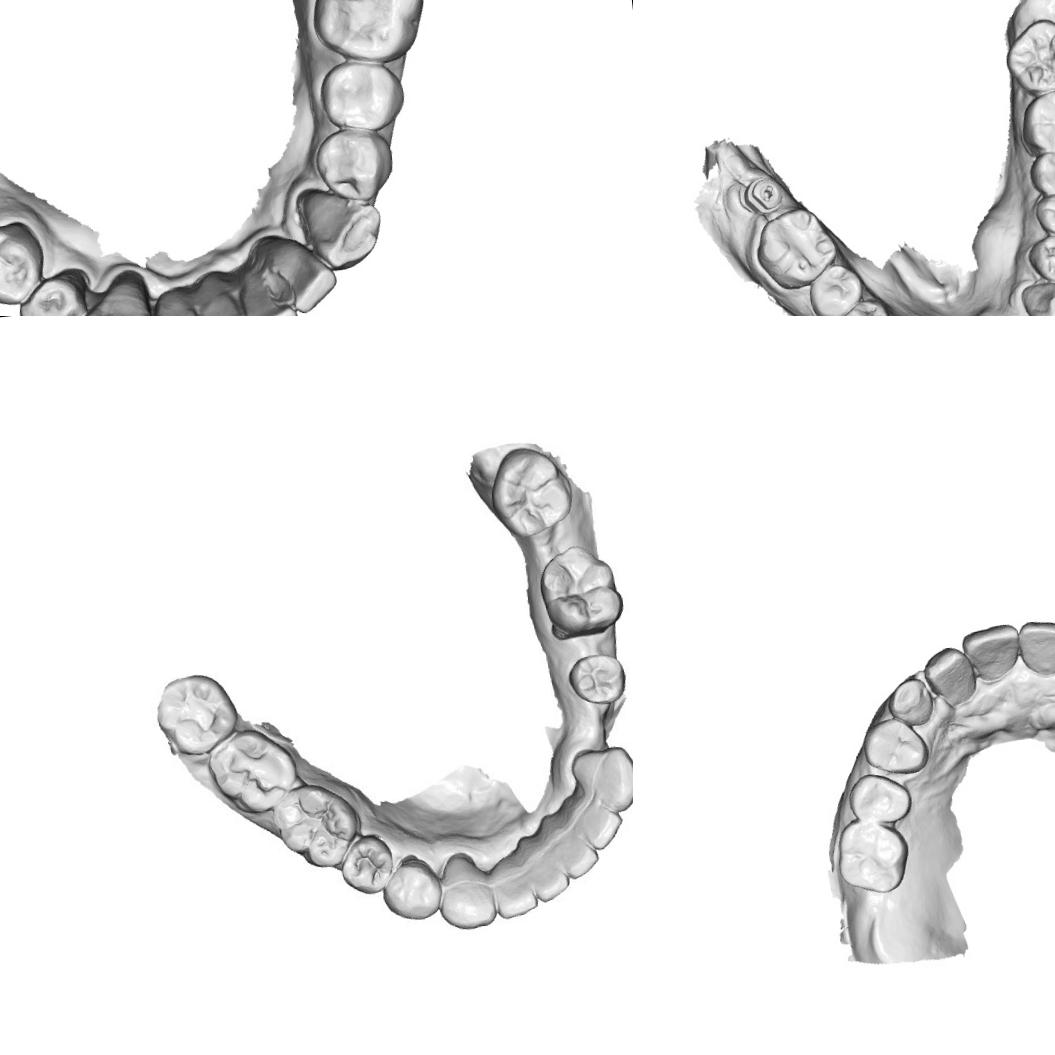canine: (299, 182, 384, 274), (433, 847, 499, 934), (567, 743, 633, 817), (73, 270, 163, 316), (882, 673, 936, 730), (1018, 279, 1055, 316)
implant_minus: (740, 170, 786, 218)
incisor: (269, 238, 340, 316), (958, 621, 1024, 686), (920, 642, 980, 711), (488, 860, 538, 920), (1015, 615, 1055, 679), (242, 272, 300, 316), (578, 806, 624, 853), (558, 836, 602, 881), (533, 860, 572, 906), (197, 289, 256, 316), (148, 294, 211, 316)
molar: (202, 720, 304, 820), (266, 776, 366, 876), (483, 442, 578, 544), (537, 540, 630, 640), (303, 0, 431, 68), (150, 669, 243, 761), (751, 203, 842, 294), (831, 813, 914, 899), (1000, 14, 1055, 99), (1016, 86, 1055, 158), (1027, 148, 1055, 199)
premolar: (314, 55, 410, 136), (312, 125, 398, 207), (858, 713, 932, 779), (0, 219, 50, 310), (376, 857, 442, 925), (844, 769, 916, 828), (336, 829, 396, 899), (563, 649, 630, 710), (14, 273, 94, 316), (805, 261, 867, 316), (1023, 229, 1055, 289), (1032, 188, 1055, 244), (835, 296, 896, 316)
